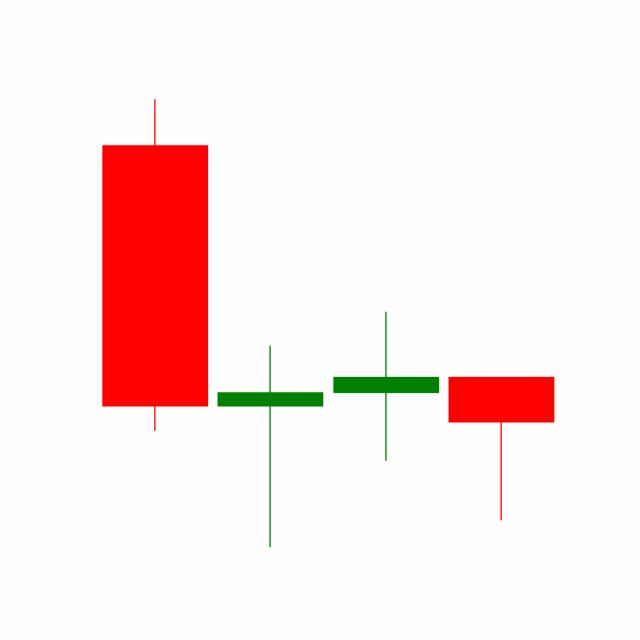Hammer: (443, 374, 559, 522)
